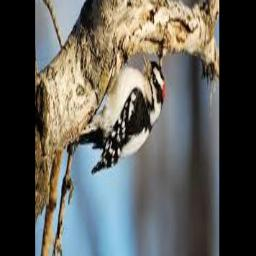Woodpecker: (73, 50, 165, 174)
